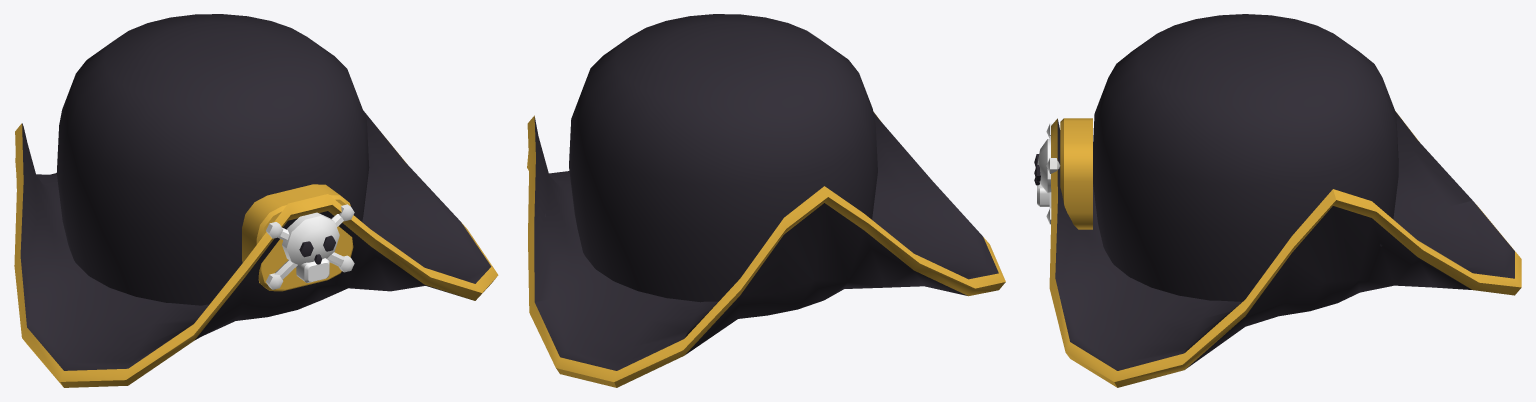
File: hat_pirate.glb
The picture shows the model from 3 angles, left to right: view 1: azimuth 30°, elevation 25°; view 2: azimuth 150°, elevation 25°; view 3: azimuth 270°, elevation 25°; orthographic projection.
Parts seen in each view (by area): view 1: Hat; view 2: Hat; view 3: Hat.
Boxes of the visible parts, <box> form: Hat: <box>14,14,498,387</box>; Hat: <box>527,14,1005,387</box>; Hat: <box>1034,14,1521,387</box>.
Size of the model in its own units: 0.8753 by 0.4592 by 0.8403.
